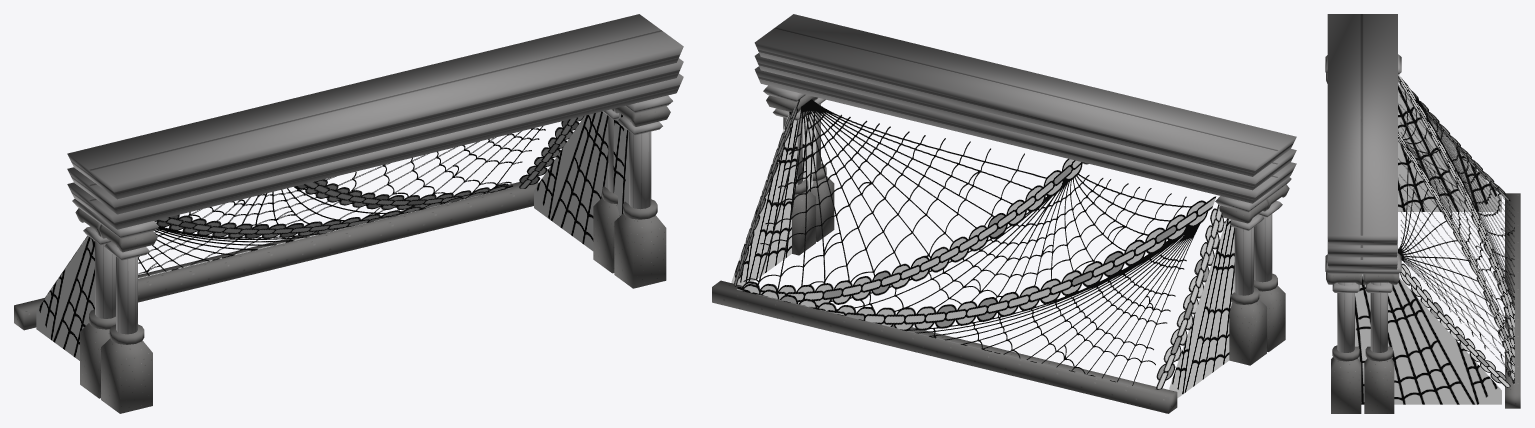
The model's file is Arco_rev05_U.fbx.
3 renders of one model, left to right at view 1: azimuth 30°, elevation 25°; view 2: azimuth 150°, elevation 25°; view 3: azimuth 270°, elevation 25°, orthographic. The views are drawn at different scales.
Parts seen in each view (by area): view 1: Travesaño, Cube.002, Columnas, Cube, Base_travesaño; view 2: Cube.002, Travesaño, Columnas, Cube, Base_travesaño; view 3: Cube.002, Travesaño, Columnas, Cube, Base_travesaño.
Part boxes in pixels (left/top/right/bottom): Travesaño: left=67, top=14, right=683, bottom=229; Cube.002: left=36, top=111, right=628, bottom=360; Columnas: left=75, top=106, right=670, bottom=413; Cube: left=14, top=182, right=538, bottom=330; Base_travesaño: left=72, top=95, right=672, bottom=238; Cube.002: left=731, top=98, right=1234, bottom=398; Travesaño: left=754, top=14, right=1296, bottom=203; Columnas: left=766, top=95, right=1289, bottom=365; Cube: left=712, top=280, right=1177, bottom=413; Base_travesaño: left=763, top=85, right=1291, bottom=212; Cube.002: left=1355, top=74, right=1514, bottom=404; Travesaño: left=1327, top=14, right=1397, bottom=269; Columnas: left=1326, top=73, right=1399, bottom=413; Cube: left=1505, top=193, right=1520, bottom=408; Base_travesaño: left=1325, top=54, right=1401, bottom=274.
Size of the model in its own units: 7.36 by 2.85 by 2.74.
